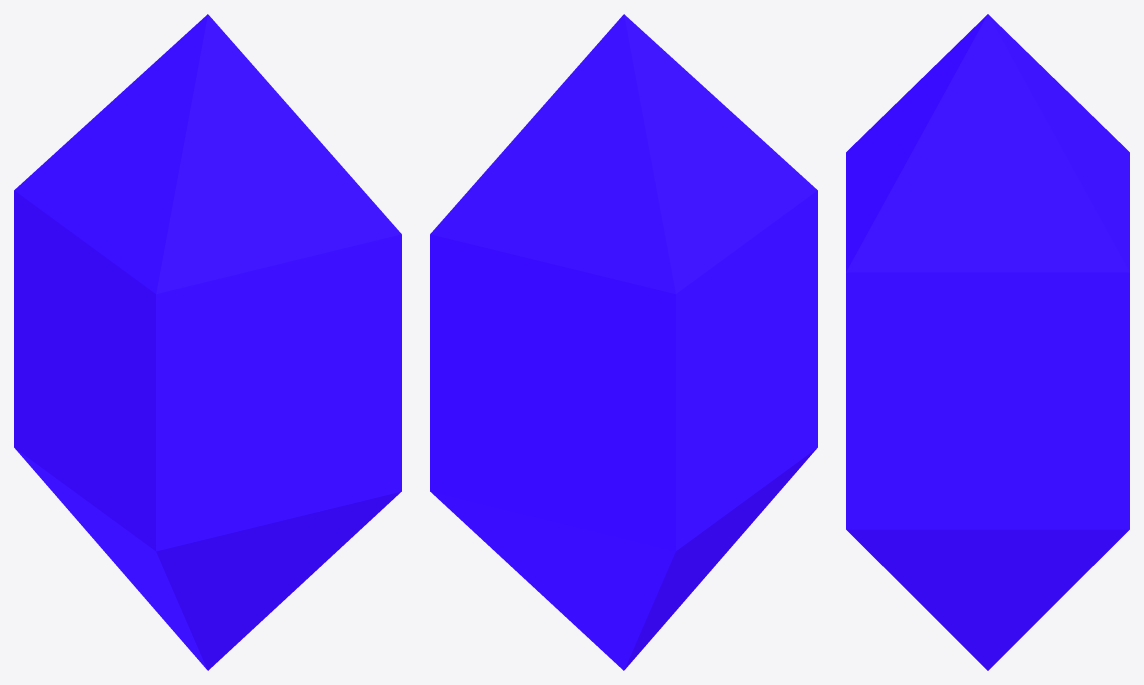
Rendered from Grenade.fbx.
The picture shows the model from 3 angles, left to right: view 1: azimuth 30°, elevation 25°; view 2: azimuth 150°, elevation 25°; view 3: azimuth 270°, elevation 25°; orthographic projection.
Visible parts, largest first — view 1: Cube; view 2: Cube; view 3: Cube.
Boxes of the visible parts, box(x1,y1,x2,y2) form: Cube: box(14, 14, 401, 670); Cube: box(430, 14, 817, 670); Cube: box(846, 14, 1129, 670).
Size of the model in its own units: 200 by 511 by 200.
